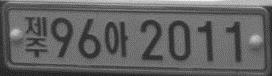0: (167, 19, 192, 60)
1: (195, 19, 216, 62), (223, 19, 243, 64)
2: (139, 18, 164, 62)
6: (76, 17, 101, 58)
9: (49, 16, 74, 58)
아: (104, 20, 129, 58)
제주_V: (23, 15, 49, 59)
